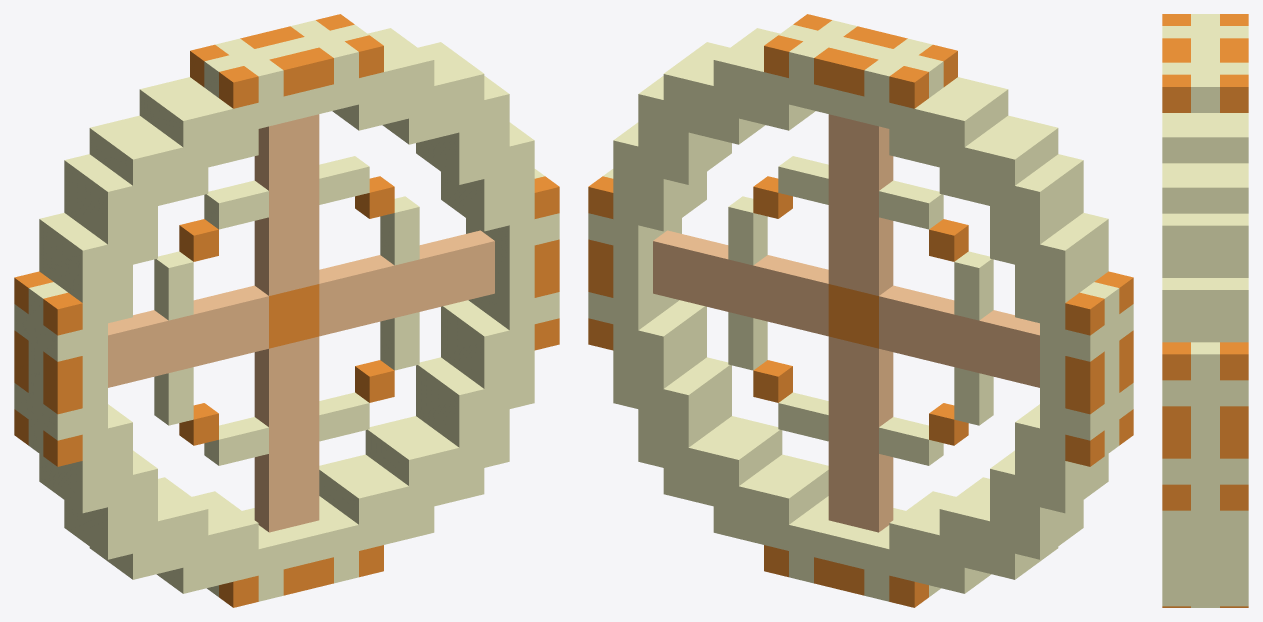
File: templeWheel.obj
3 renders of one model, left to right at view 1: azimuth 30°, elevation 25°; view 2: azimuth 150°, elevation 25°; view 3: azimuth 270°, elevation 25°, orthographic.
Bounding box in the file's own units: 20 × 20 × 3.
1 material, 1 textured.
